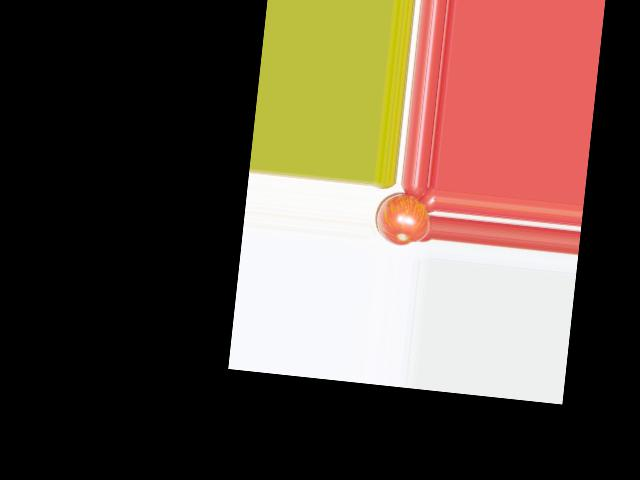tomato: (374, 190, 432, 248)
